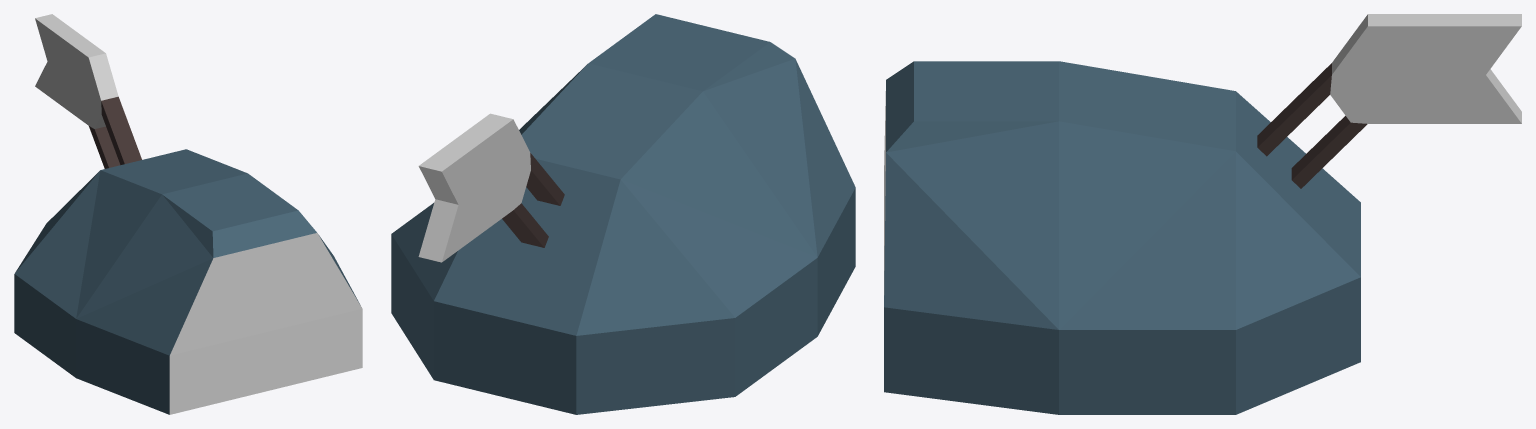
File: windmill_head.dae
3 renders of one model, left to right at view 1: azimuth 30°, elevation 25°; view 2: azimuth 150°, elevation 25°; view 3: azimuth 270°, elevation 25°, orthographic. The views are drawn at different scales.
Visible parts, largest first — view 1: Windmill_head_001; view 2: Windmill_head_001; view 3: Windmill_head_001.
Part boxes in pixels (<box>): Windmill_head_001: <box>14,14,362,414</box>; Windmill_head_001: <box>391,14,855,414</box>; Windmill_head_001: <box>884,14,1521,414</box>.
Bounding box in the file's own units: 0.5922 × 0.8851 × 0.4664.
